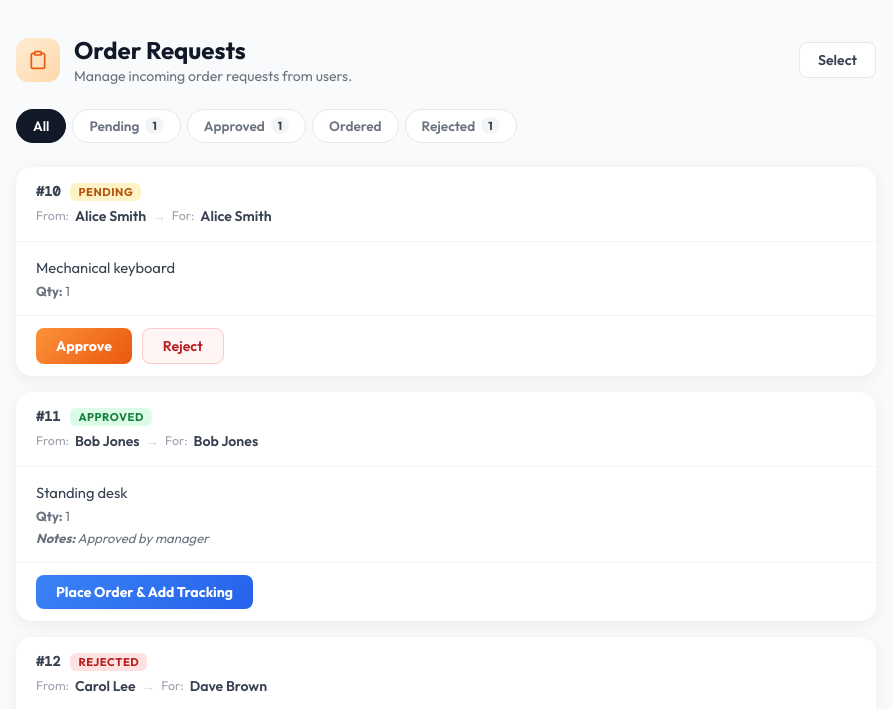
Test: Status filter bar › clicking All restores full list after filtering
Click the button "Pending 1". click: {"x": 127, "y": 126}
box: [72, 109, 181, 143]
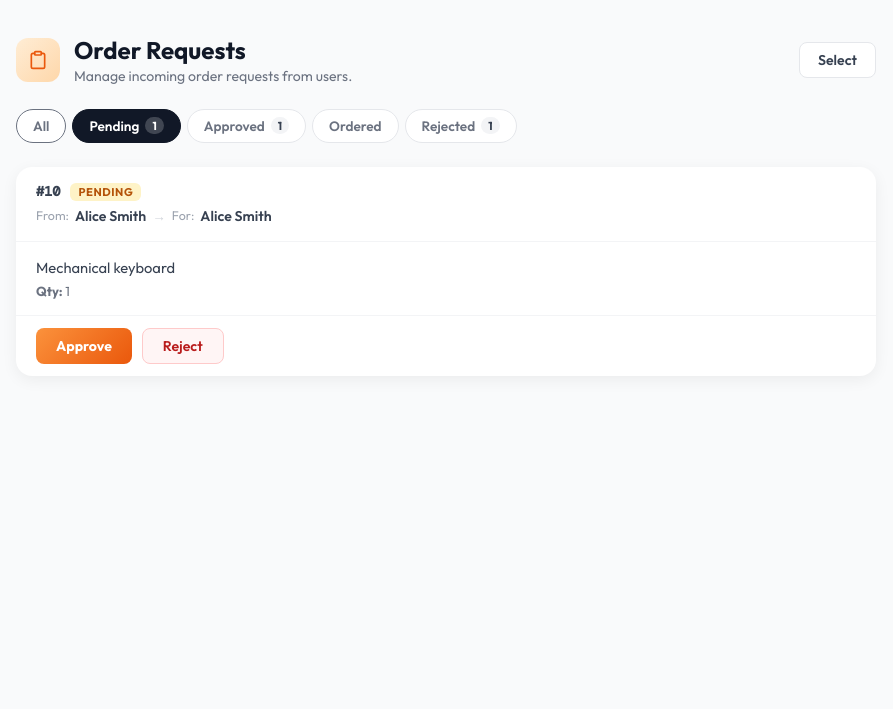
Click the button "All". click: {"x": 41, "y": 126}
box: [16, 109, 66, 143]
(page scrolled)
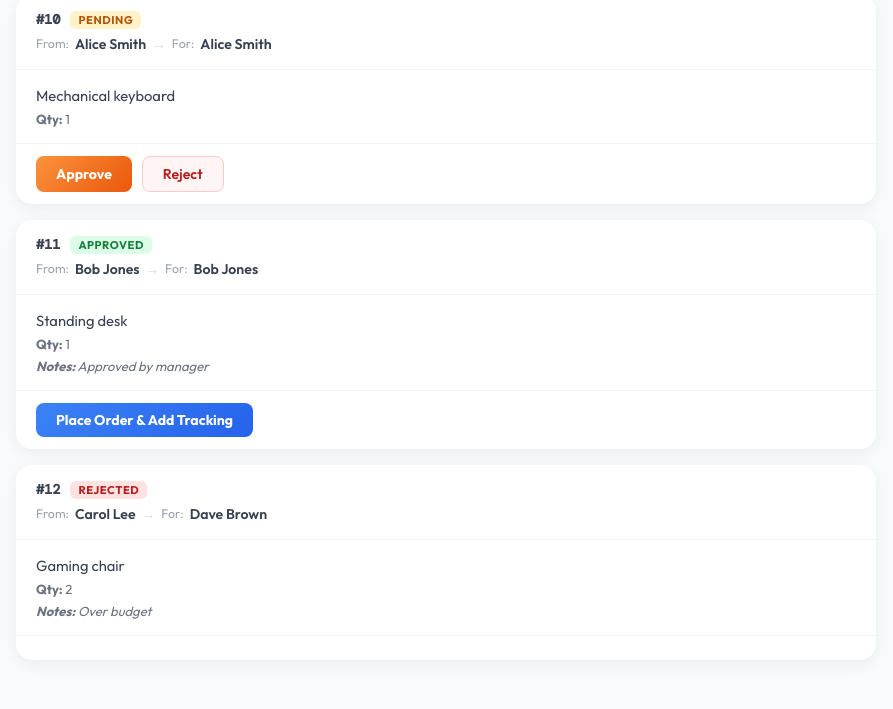
Check: the text "Mechanical keyboard" is shown, box [36, 86, 175, 105]
Check: the text "Standing desk" is shown, box [36, 311, 128, 330]
Check: the text "Gaming chair" is shown, box [36, 556, 125, 575]
